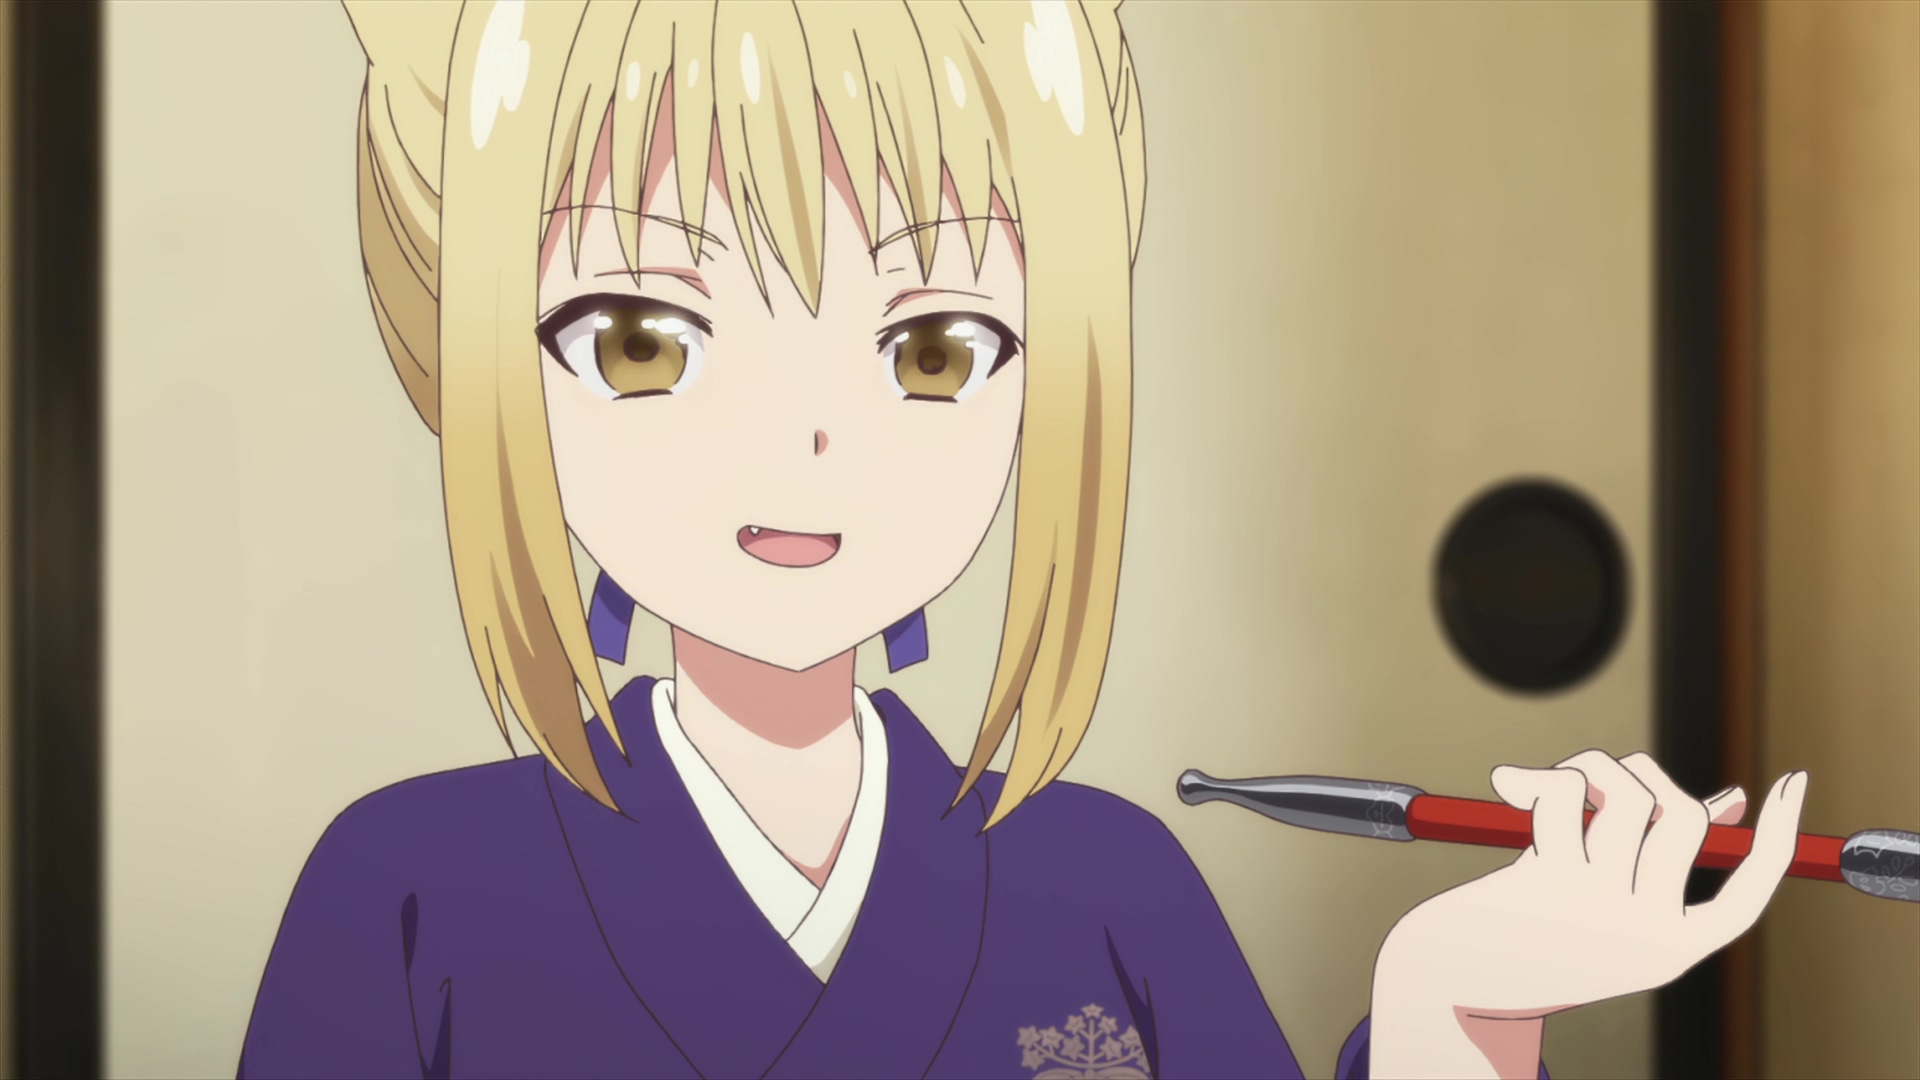桐: (240, 1, 1808, 1080)
